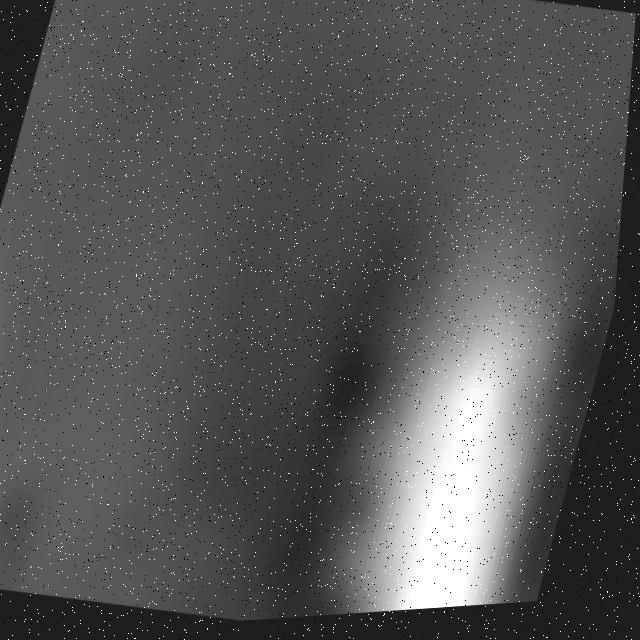person: (326, 217, 616, 622), (1, 309, 30, 584)
